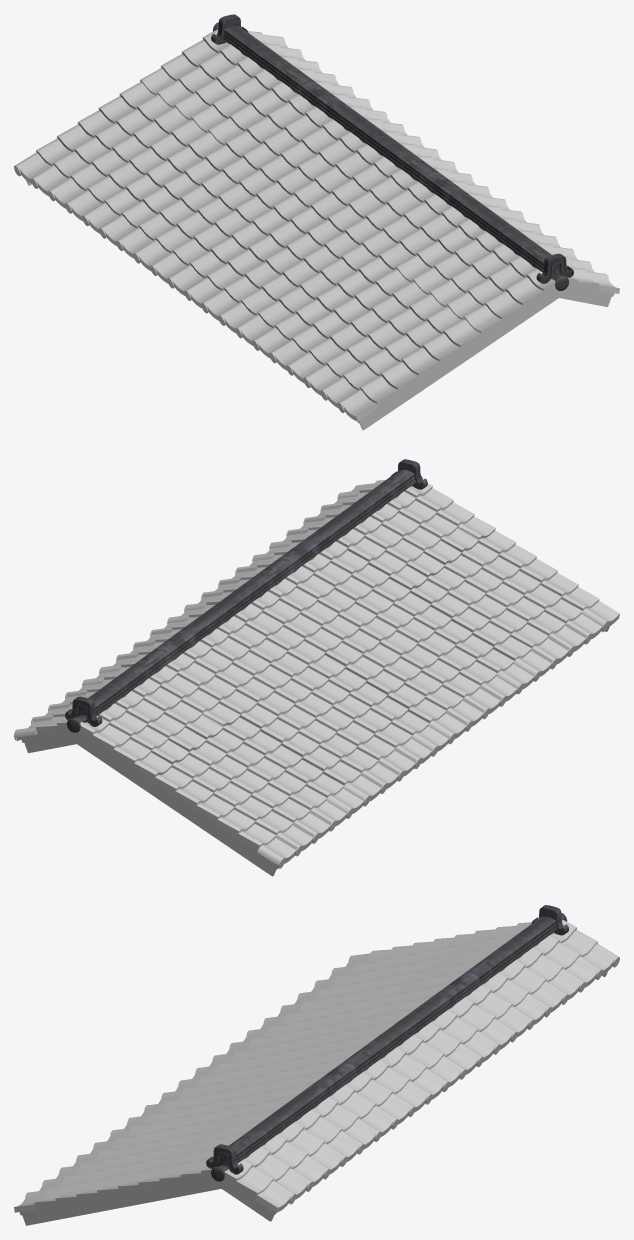
The model's file is SM_KYT_Roof1F_A_S3.fbx.
3 renders of one model, top to bottom at view 1: azimuth 30°, elevation 25°; view 2: azimuth 150°, elevation 25°; view 3: azimuth 330°, elevation 25°, orthographic.
Visible parts, largest first — view 1: SM_KYT_Roof1F_A_S3_LOD0; view 2: SM_KYT_Roof1F_A_S3_LOD0; view 3: SM_KYT_Roof1F_A_S3_LOD0.
Boxes of the visible parts, <box> form: SM_KYT_Roof1F_A_S3_LOD0: <box>14,14,619,430</box>; SM_KYT_Roof1F_A_S3_LOD0: <box>14,459,619,876</box>; SM_KYT_Roof1F_A_S3_LOD0: <box>14,905,619,1225</box>.
Size of the model in its own units: 218 by 484 by 97.3.
